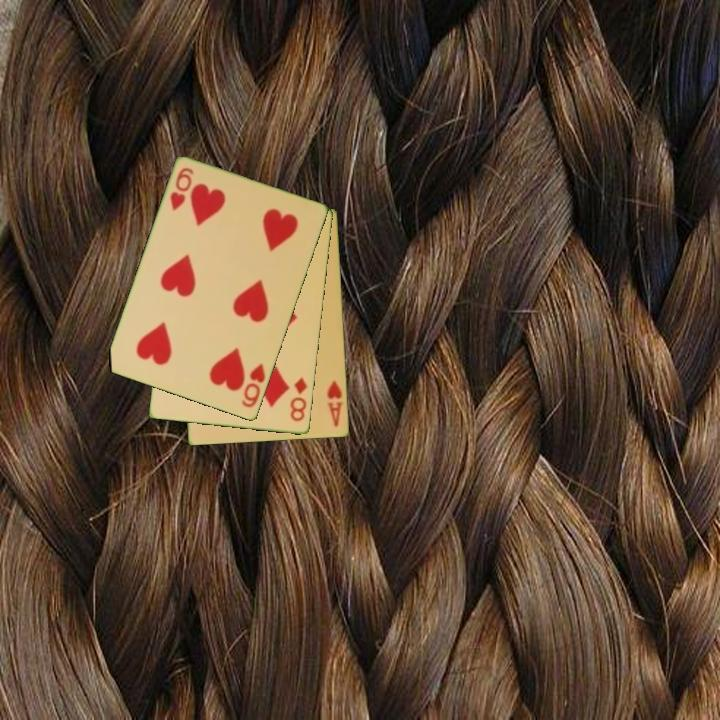6h: (238, 360, 268, 411), (167, 164, 197, 214)
8d: (287, 374, 310, 425)
Ah: (324, 377, 346, 430)
